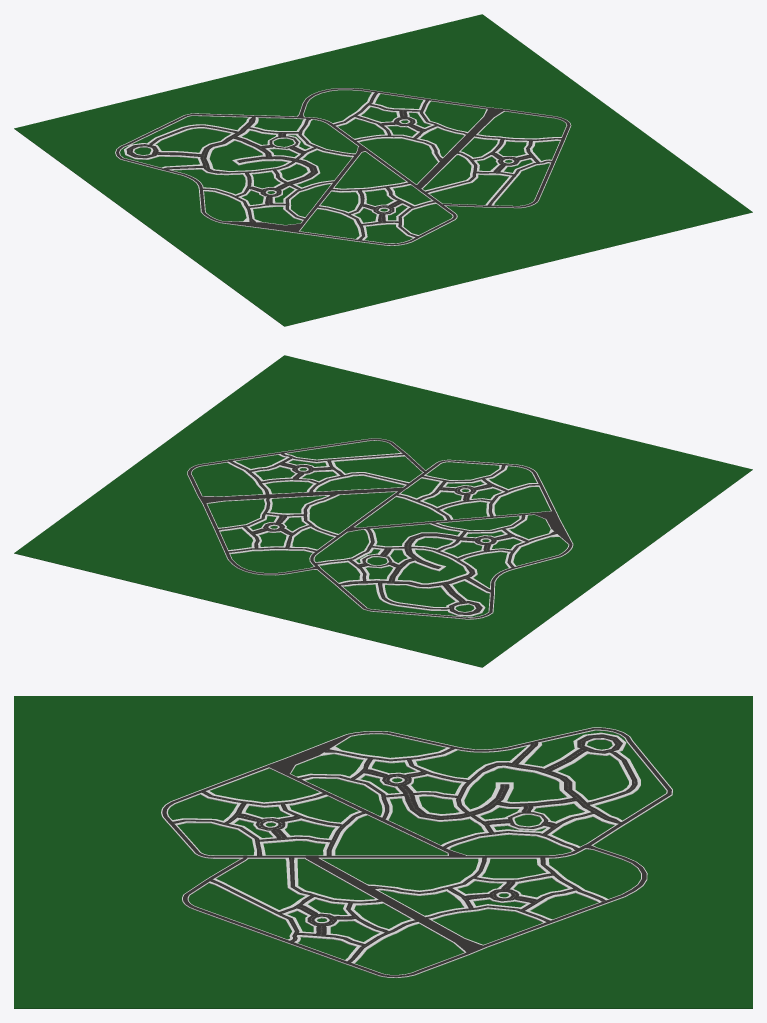
Rendered from level 3.fbx.
3 renders of one model, top to bottom at view 1: azimuth 30°, elevation 25°; view 2: azimuth 150°, elevation 25°; view 3: azimuth 270°, elevation 25°, orthographic. The views are drawn at different scales.
Visible parts, largest first — view 1: Cube, Cube.017; view 2: Cube, Cube.017; view 3: Cube, Cube.017.
Boxes of the visible parts, x1,y1,x2,y2 form: Cube: (14, 14, 752, 326); Cube.017: (115, 88, 571, 245); Cube: (14, 355, 752, 667); Cube.017: (187, 438, 573, 619); Cube: (14, 696, 752, 1008); Cube.017: (161, 727, 672, 977).
Bounding box in the file's own units: 300000 × 5854 × 300000.
Materials: 7 (4 with a texture image).
